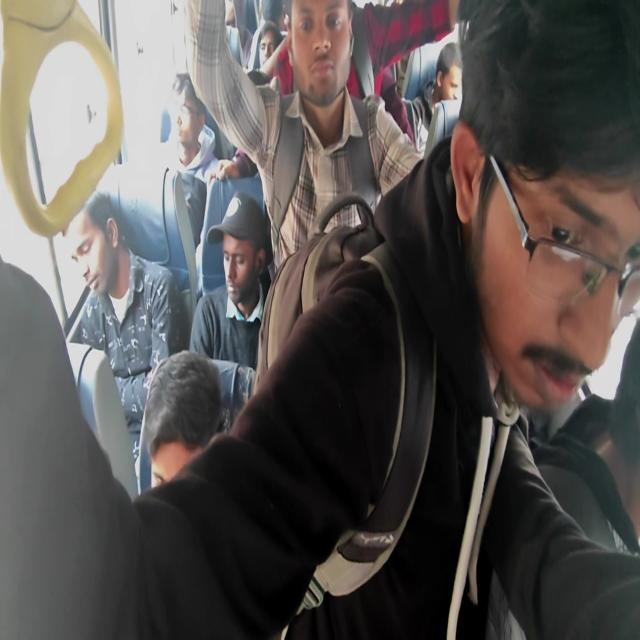person: (478, 147, 638, 418), (68, 189, 181, 386), (226, 49, 284, 178), (139, 432, 229, 512), (288, 2, 350, 105), (168, 81, 204, 162), (223, 235, 259, 308), (426, 42, 460, 113), (223, 1, 256, 69), (258, 19, 284, 68), (224, 0, 237, 27)
